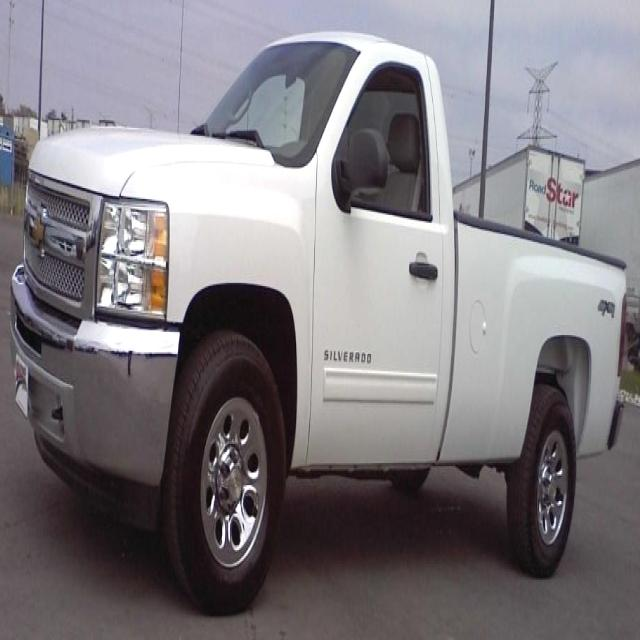CMT: (7, 26, 629, 594)
